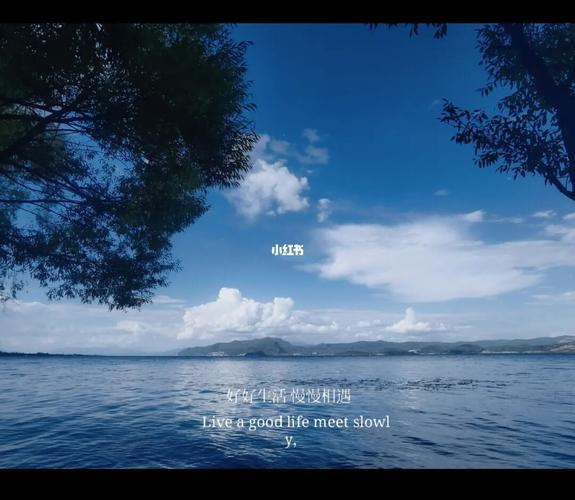sea_river: (12, 342, 561, 463), (14, 47, 257, 315)
sky_cloud: (148, 85, 565, 314)
